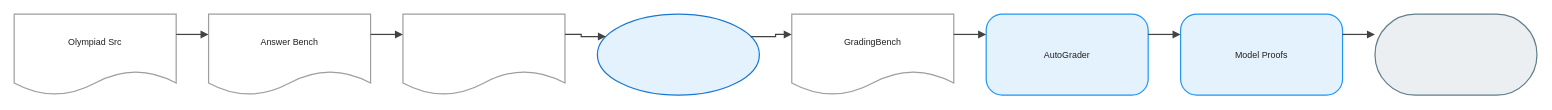
Some shapes in this 1552 by 110 pixel diagram are drawn without their labels. The centre of each missing label's shape, as x and y in pixels:
Human Grades: (678,54)
Proof Bench: (483,54)
Scores: (1455,54)
